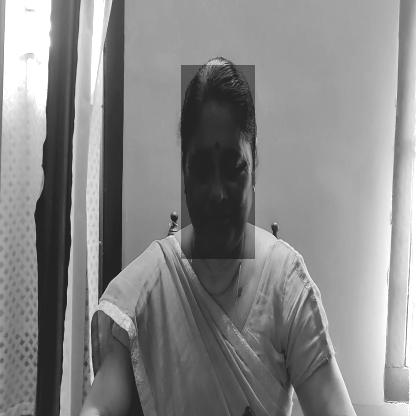Normal: (181, 65, 255, 259)
